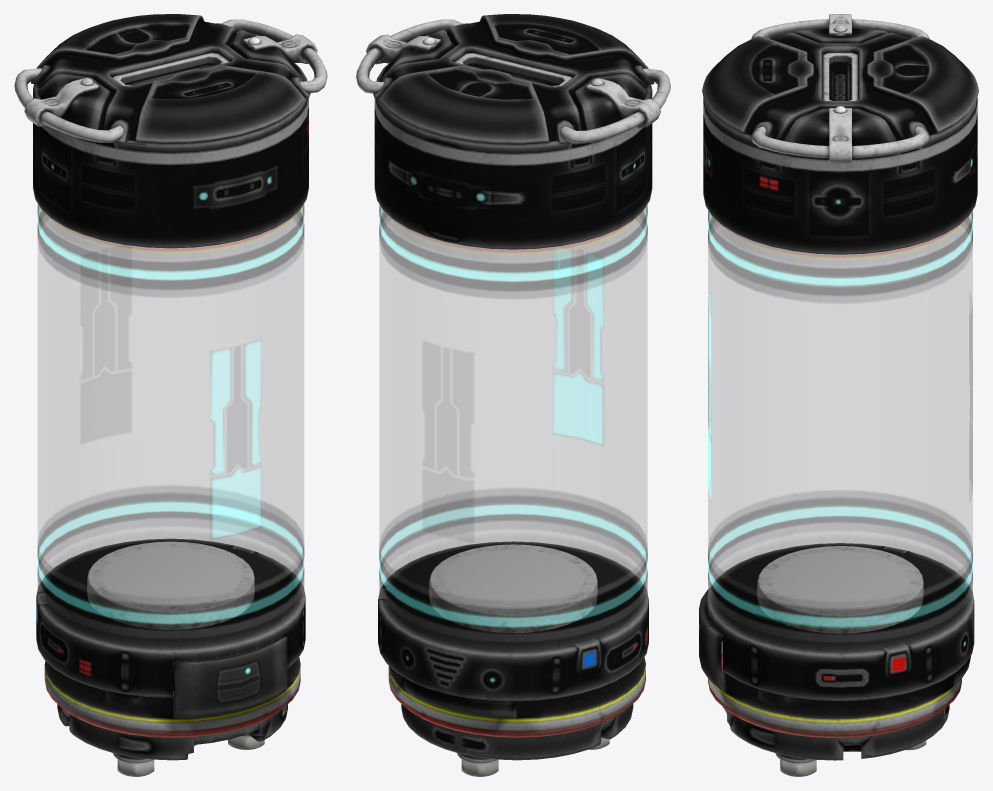
The picture shows the model from 3 angles, left to right: view 1: azimuth 30°, elevation 25°; view 2: azimuth 150°, elevation 25°; view 3: azimuth 270°, elevation 25°; orthographic projection.
Parts seen in each view (by area): view 1: Object_5, Object_2, Object_3, Object_4; view 2: Object_5, Object_2, Object_3, Object_4; view 3: Object_5, Object_2, Object_3, Object_4.
Boxes of the visible parts, x1=… form: Object_5: x1=37, y1=204, x2=304, y2=664; Object_2: x1=14, y1=14, x2=327, y2=718; Object_3: x1=44, y1=637, x2=300, y2=776; Object_4: x1=87, y1=541, x2=254, y2=629; Object_5: x1=379, y1=204, x2=647, y2=654; Object_2: x1=356, y1=14, x2=670, y2=701; Object_3: x1=388, y1=657, x2=645, y2=776; Object_4: x1=429, y1=544, x2=597, y2=633; Object_5: x1=708, y1=210, x2=972, y2=654; Object_2: x1=699, y1=14, x2=978, y2=700; Object_3: x1=701, y1=630, x2=970, y2=776; Object_4: x1=757, y1=546, x2=923, y2=633.
Bounding box in the file's own units: 544 × 1253 × 469.
4 materials, 4 textured.
